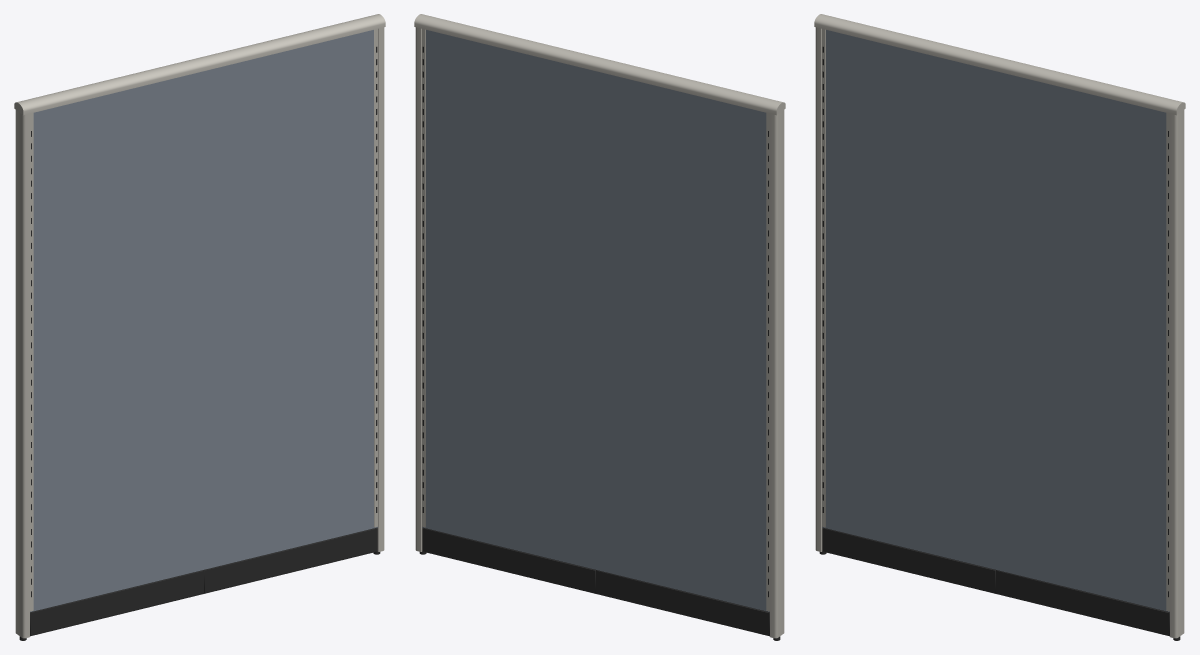
Rendered from Kit_CubiclePanel_2160.fbx.
The picture shows the model from 3 angles, left to right: view 1: azimuth 30°, elevation 25°; view 2: azimuth 150°, elevation 25°; view 3: azimuth 330°, elevation 25°; orthographic projection.
Visible parts, largest first — view 1: Kit_CubiclePanel_2160_LOD0; view 2: Kit_CubiclePanel_2160_LOD0; view 3: Kit_CubiclePanel_2160_LOD0.
Part boxes in pixels (<box>): Kit_CubiclePanel_2160_LOD0: <box>14,14,385,640</box>; Kit_CubiclePanel_2160_LOD0: <box>414,14,785,640</box>; Kit_CubiclePanel_2160_LOD0: <box>814,14,1185,640</box>.
Size of what is drawn, in the model's own units: 1.52 by 2.16 by 0.067.
